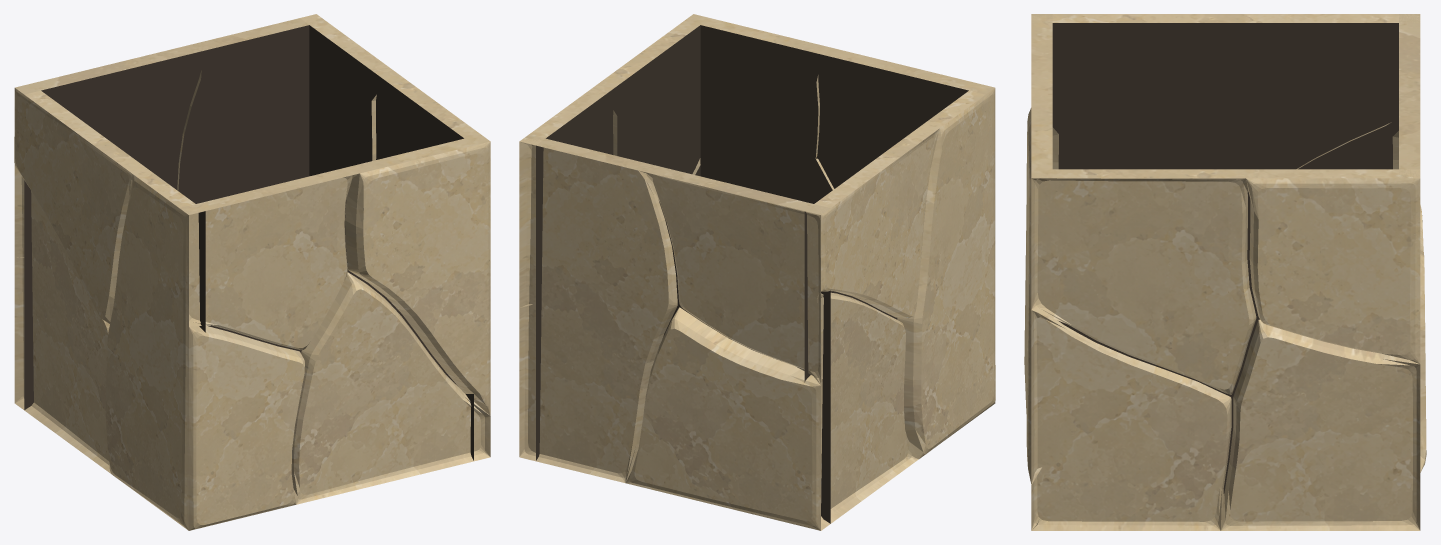
Rendered from ground_square_island_07.glb.
3 views of the same model, side by side, from view 1: azimuth 30°, elevation 25°; view 2: azimuth 150°, elevation 25°; view 3: azimuth 270°, elevation 25° (orthographic). The views are drawn at different scales.
Parts seen in each view (by area): view 1: GroundSquareIsland07_Body; view 2: GroundSquareIsland07_Body; view 3: GroundSquareIsland07_Body.
Boxes of the visible parts, x1,y1,x2,y2 form: GroundSquareIsland07_Body: (14, 14, 490, 530); GroundSquareIsland07_Body: (519, 14, 995, 530); GroundSquareIsland07_Body: (1024, 14, 1426, 530).
Size of the model in its own units: 1.03 by 1 by 1.03.
16 materials, 15 textured.
